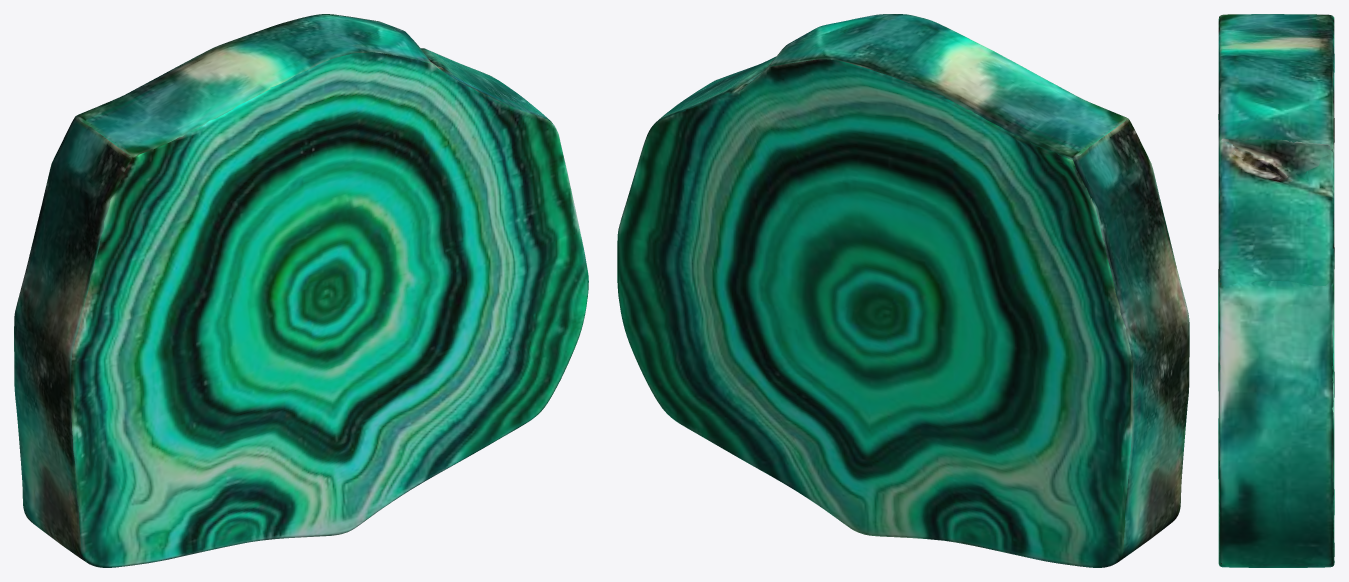
Rendered from malachite.glb.
3 renders of one model, left to right at view 1: azimuth 30°, elevation 25°; view 2: azimuth 150°, elevation 25°; view 3: azimuth 270°, elevation 25°, orthographic.
Parts seen in each view (by area): view 1: malachite; view 2: malachite; view 3: malachite.
Part boxes in pixels (<box>): malachite: <box>14,14,588,567</box>; malachite: <box>617,14,1189,567</box>; malachite: <box>1218,14,1334,567</box>.
Bounding box in the file's own units: 1 × 0.8828 × 0.1944.
1 material, 1 textured.
